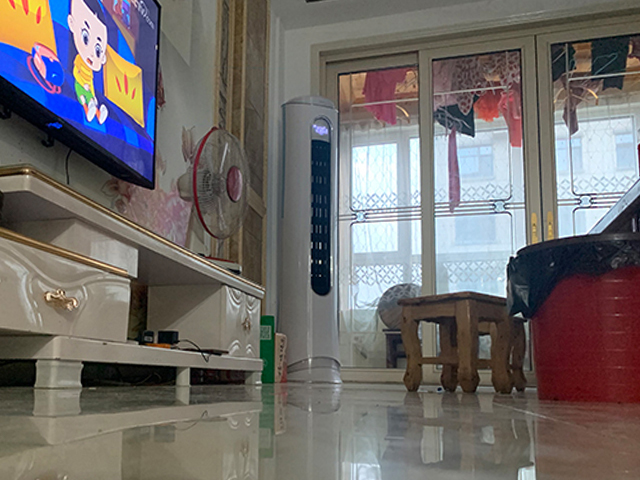cabinet: (1, 161, 269, 389)
stool: (396, 290, 529, 394)
trashcan: (516, 232, 640, 406)
